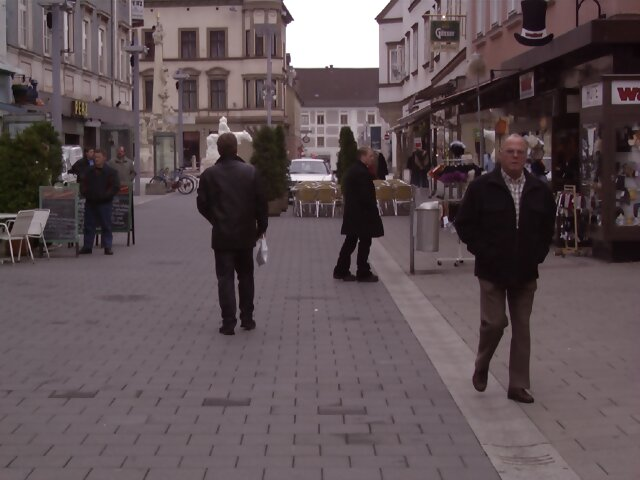person: (451, 132, 575, 410), (194, 130, 284, 338)
